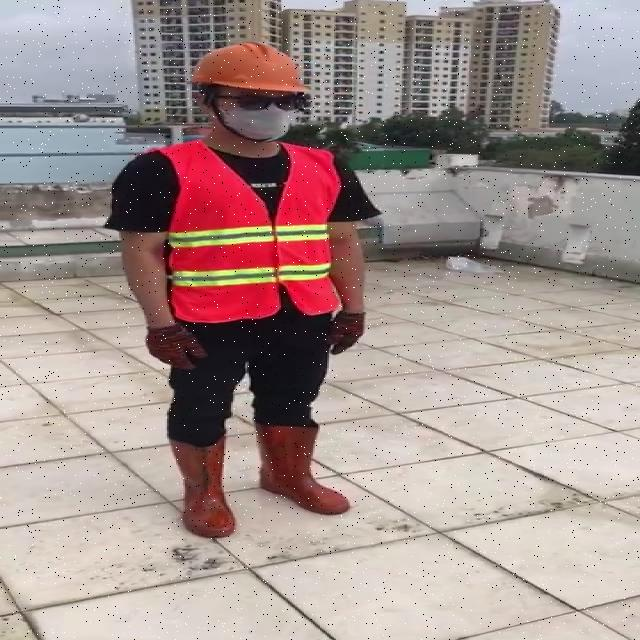Hard_hat: (190, 38, 315, 105)
Person: (98, 29, 384, 548)
Vest: (159, 138, 333, 329)
